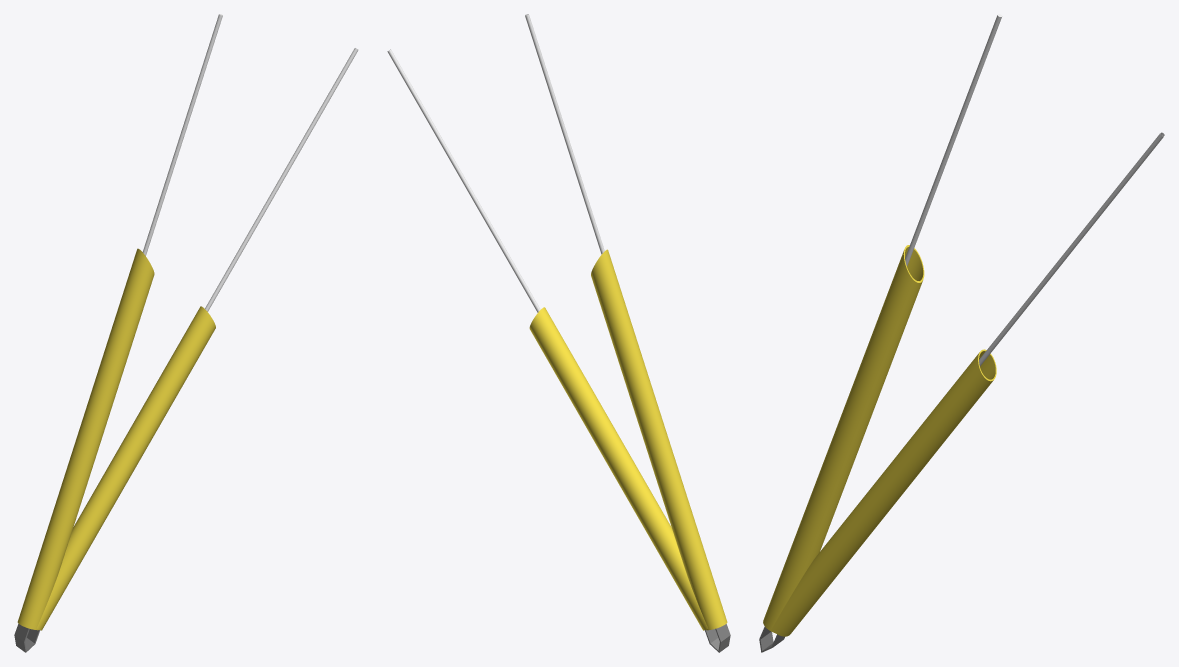
File: Day 13 - Yellow Street Things.glb
The picture shows the model from 3 angles, left to right: view 1: azimuth 30°, elevation 25°; view 2: azimuth 150°, elevation 25°; view 3: azimuth 330°, elevation 25°; orthographic projection. The views are drawn at different scales.
Visible parts, largest first — view 1: Body7, Body6, Body4, Body3; view 2: Body7, Body6, Body4, Body3; view 3: Body7, Body6, Body4, Body3.
Boxes of the visible parts, x1,y1,x2,y2 form: Body7: (17,248,154,630); Body6: (37,306,215,630); Body4: (205,48,358,311); Body3: (142,14,222,255); Body7: (591,249,727,630); Body6: (529,307,708,630); Body4: (387,49,540,312); Body3: (525,14,604,254); Body7: (763,245,924,632); Body6: (771,349,996,636); Body4: (979,132,1164,366); Body3: (905,14,1002,266).
Size of the model in its own units: 10.41 by 17.24 by 0.6452.
